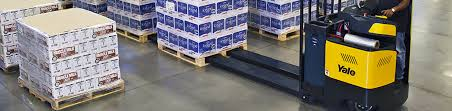Pallet Jack: (211, 1, 416, 111)
